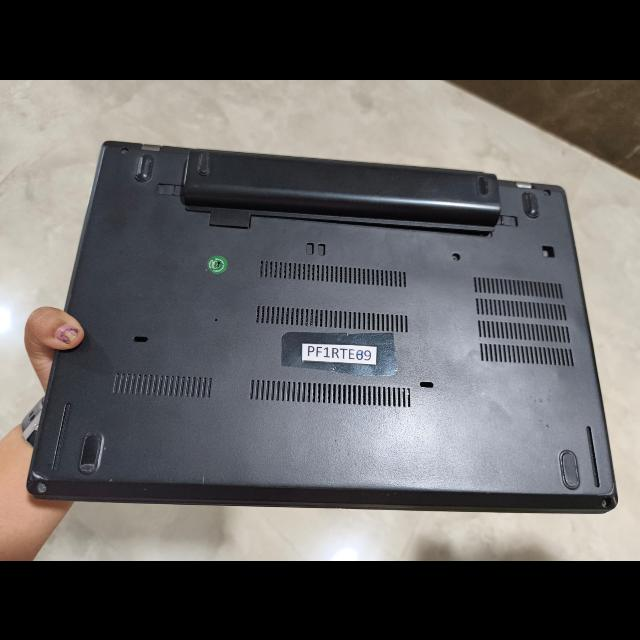laptop: (28, 118, 628, 516)
